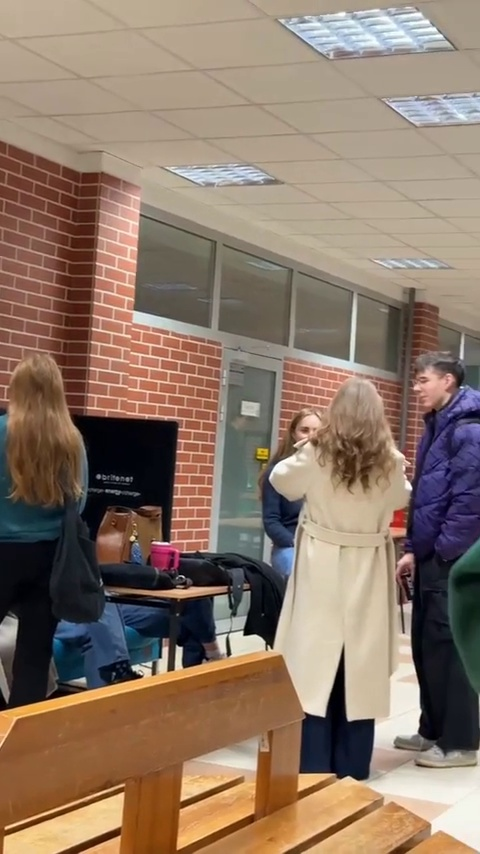no vest: (275, 361, 401, 721), (0, 350, 100, 713), (401, 349, 480, 722)
